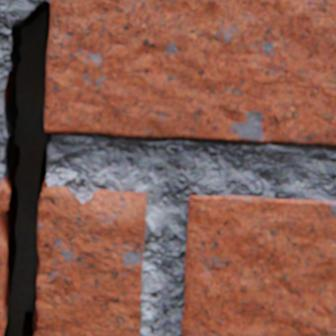brick: (44, 0, 335, 145), (181, 194, 335, 335)
broken_brick: (36, 185, 145, 335), (0, 229, 6, 335), (0, 181, 9, 213)
crack: (0, 1, 52, 335)
